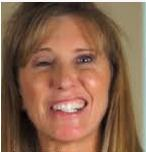strokeEyeMid: (25, 45, 98, 71)
